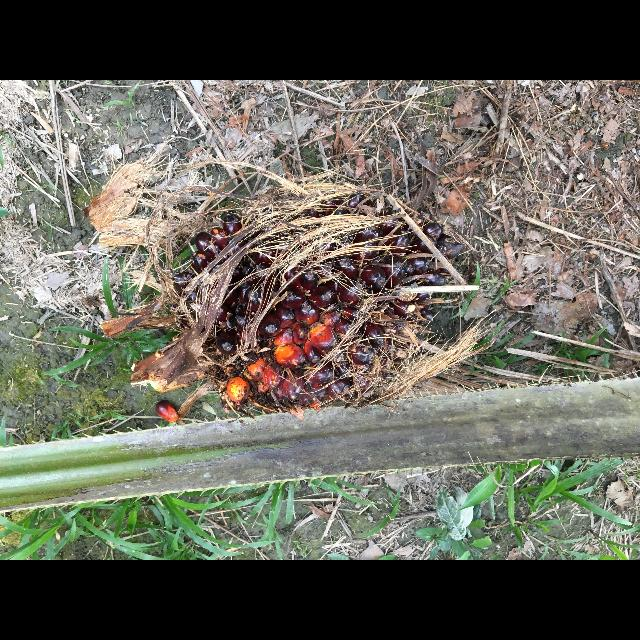Overripe: (129, 185, 468, 413)
